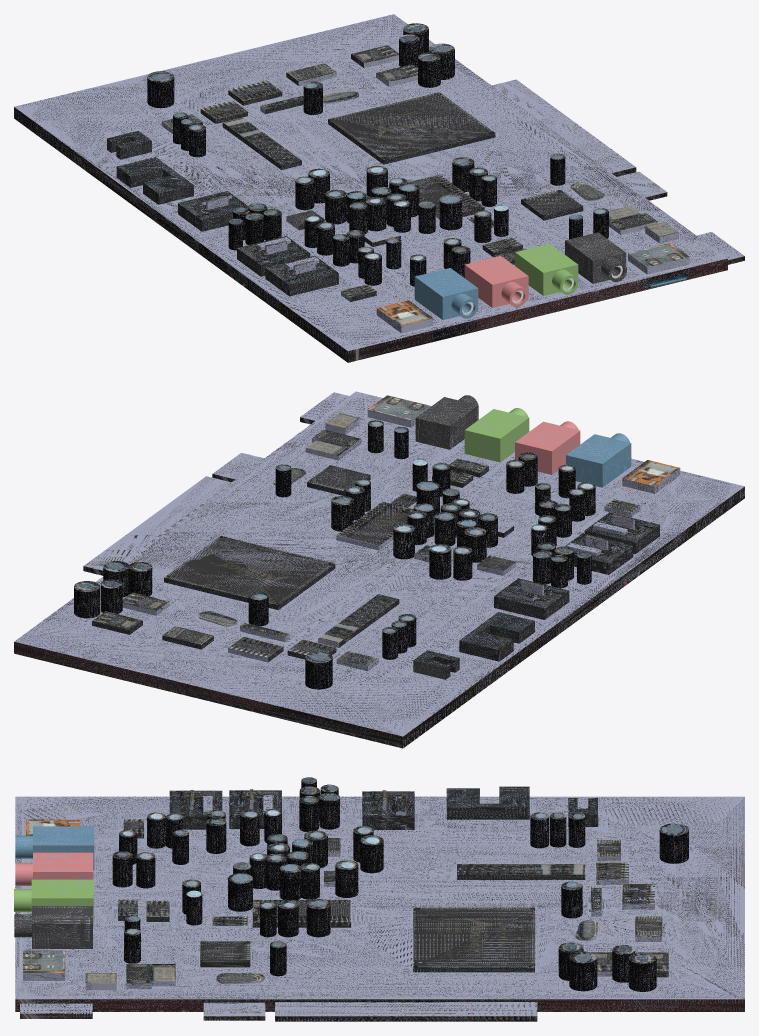
3 renders of one model, top to bottom at view 1: azimuth 30°, elevation 25°; view 2: azimuth 150°, elevation 25°; view 3: azimuth 270°, elevation 25°, orthographic. The views are drawn at different scales.
Visible parts, largest first — view 1: SketchUp (×33); view 2: SketchUp (×30); view 3: SketchUp (×62).
Part boxes in pixels (x1,y1,x2,y2): SketchUp (×33): (14,14,744,362); SketchUp (×30): (14,391,744,748); SketchUp (×62): (14,786,744,1021).
Bounding box in the file's own units: 852 × 1211 × 74.5.
22 materials, 13 textured.
